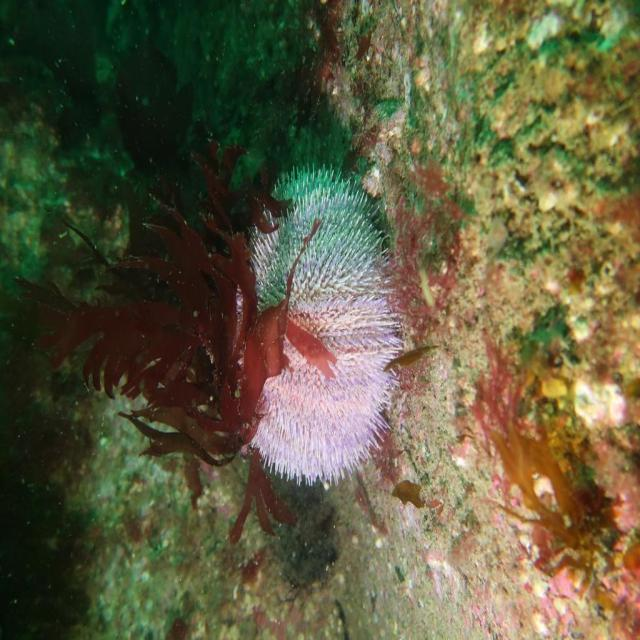Deniz Kestanesi: (221, 160, 401, 484)
